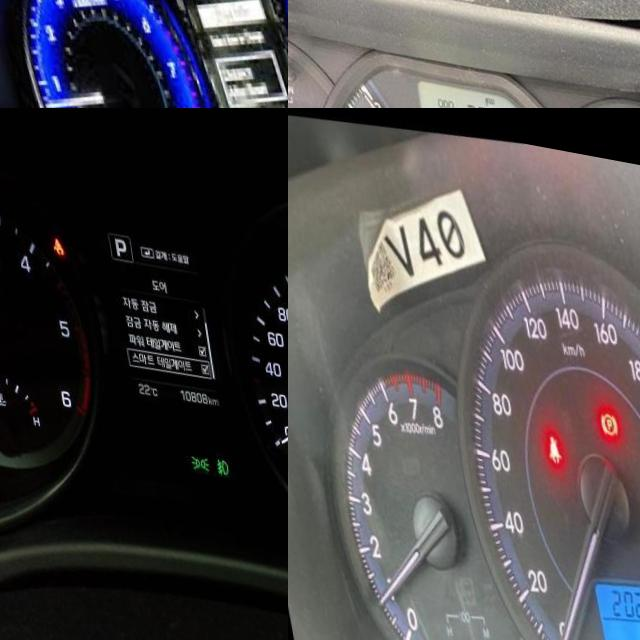FrontFogLight: (202, 445, 218, 465)
Seat Belt: (535, 422, 552, 454)
SideLamp: (179, 443, 197, 460)
